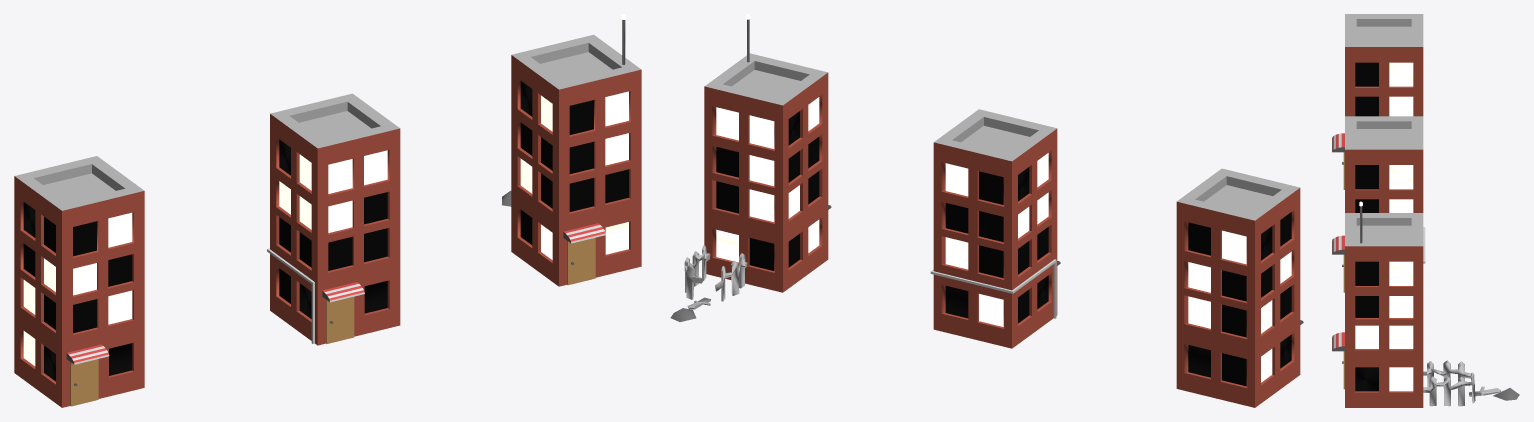
The model's file is bHouses1.glb.
3 renders of one model, left to right at view 1: azimuth 30°, elevation 25°; view 2: azimuth 150°, elevation 25°; view 3: azimuth 270°, elevation 25°, orthographic. The views are drawn at different scales.
Parts seen in each view (by area): view 1: Cube; view 2: Cube; view 3: Cube.
Part boxes in pixels (left/top/right/bottom): Cube: left=14, top=14, right=641, bottom=407; Cube: left=670, top=14, right=1303, bottom=407; Cube: left=1332, top=14, right=1519, bottom=407.
Size of the model in its own units: 28.48 by 11.6 by 9.74.
